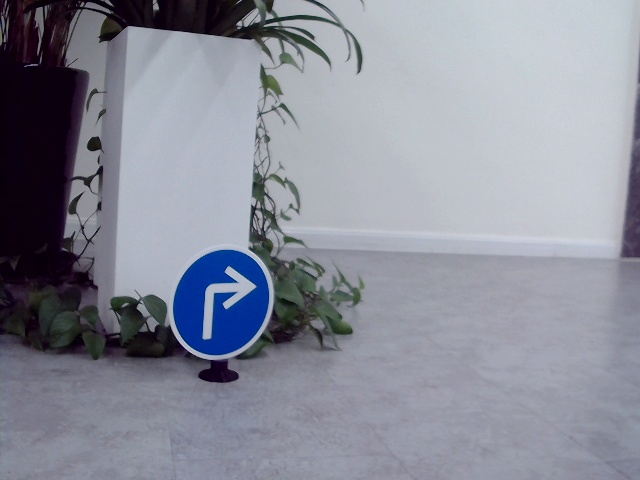turn_right: (196, 265, 253, 338)
